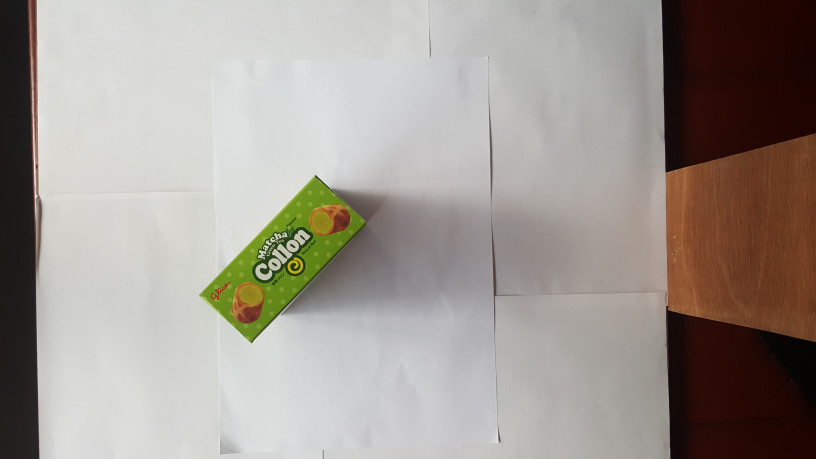collon-matcha: (199, 172, 366, 344)
